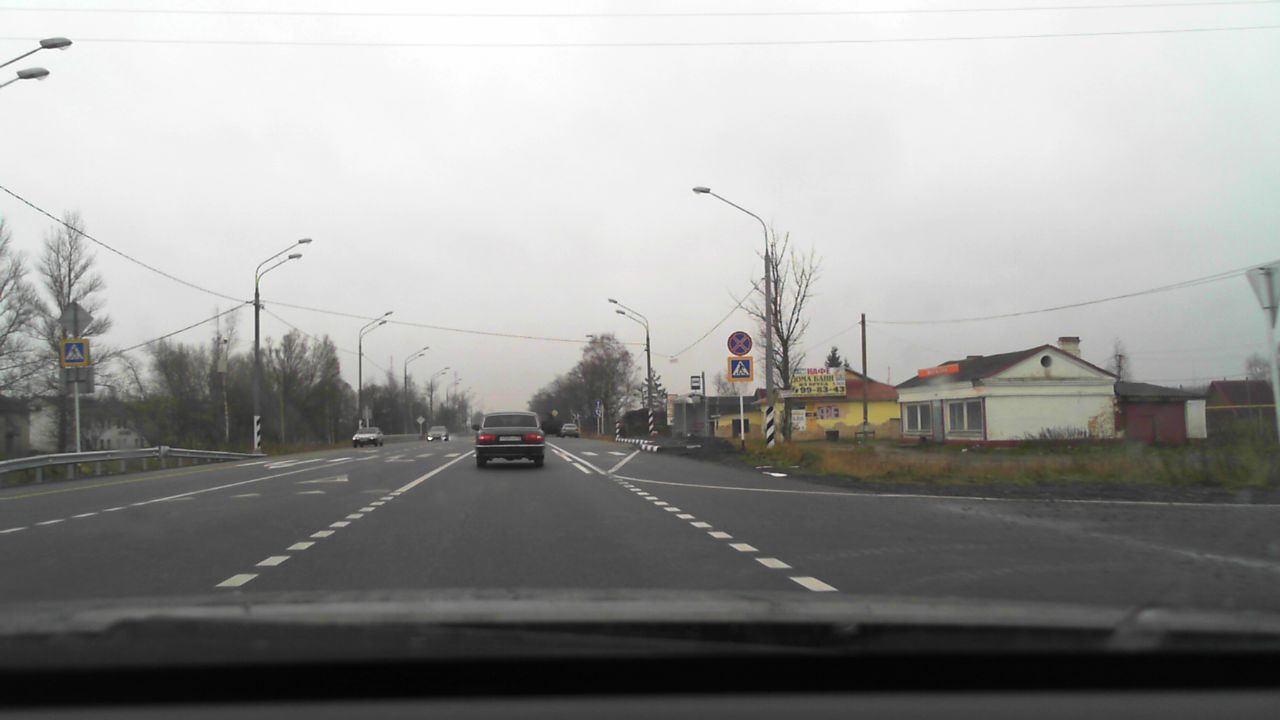No Parking: (727, 330, 752, 356)
